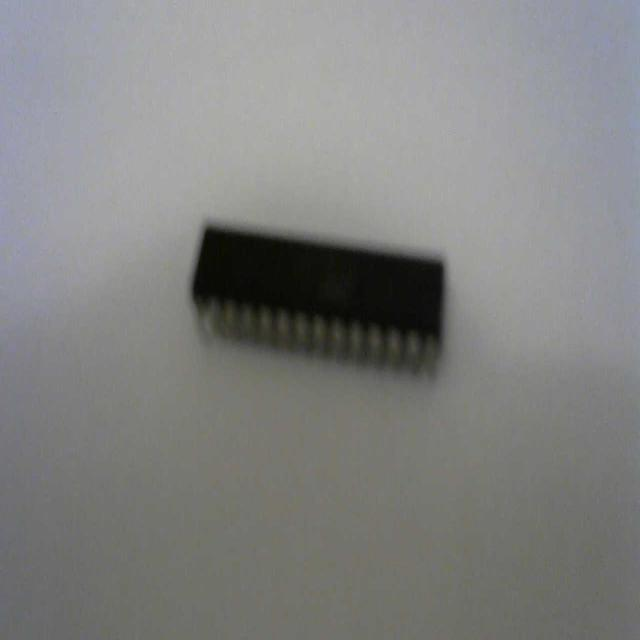atmega: (189, 217, 447, 381)
